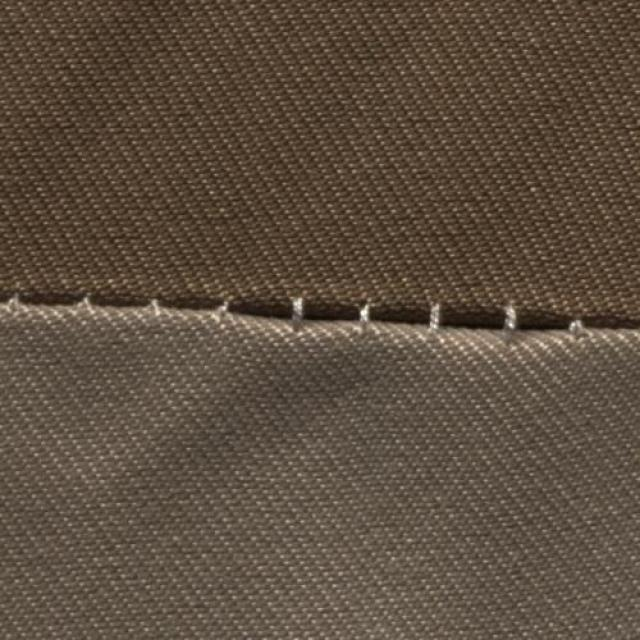gray stitch: (5, 276, 590, 356)
